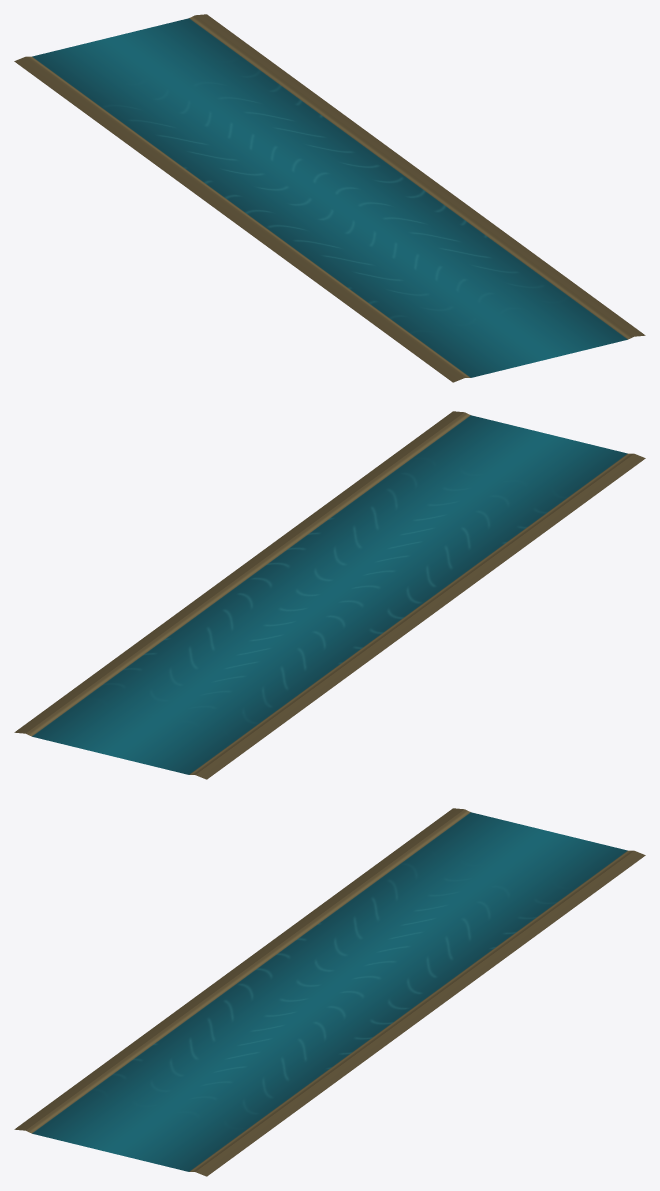
The model's file is hex_river_overlay_straight.glb.
3 renders of one model, top to bottom at view 1: azimuth 30°, elevation 25°; view 2: azimuth 150°, elevation 25°; view 3: azimuth 330°, elevation 25°, orthographic.
Parts seen in each view (by area): view 1: Independent painted river ribbon; view 2: Independent painted river ribbon; view 3: Independent painted river ribbon.
Boxes of the visible parts, box(x1,y1,x2,y2) form: Independent painted river ribbon: box(14, 14, 645, 382); Independent painted river ribbon: box(14, 411, 645, 779); Independent painted river ribbon: box(14, 808, 645, 1176).
Size of the model in its own units: 1.12 by 0.01 by 4.42.
Materials: 1 (1 with a texture image).
